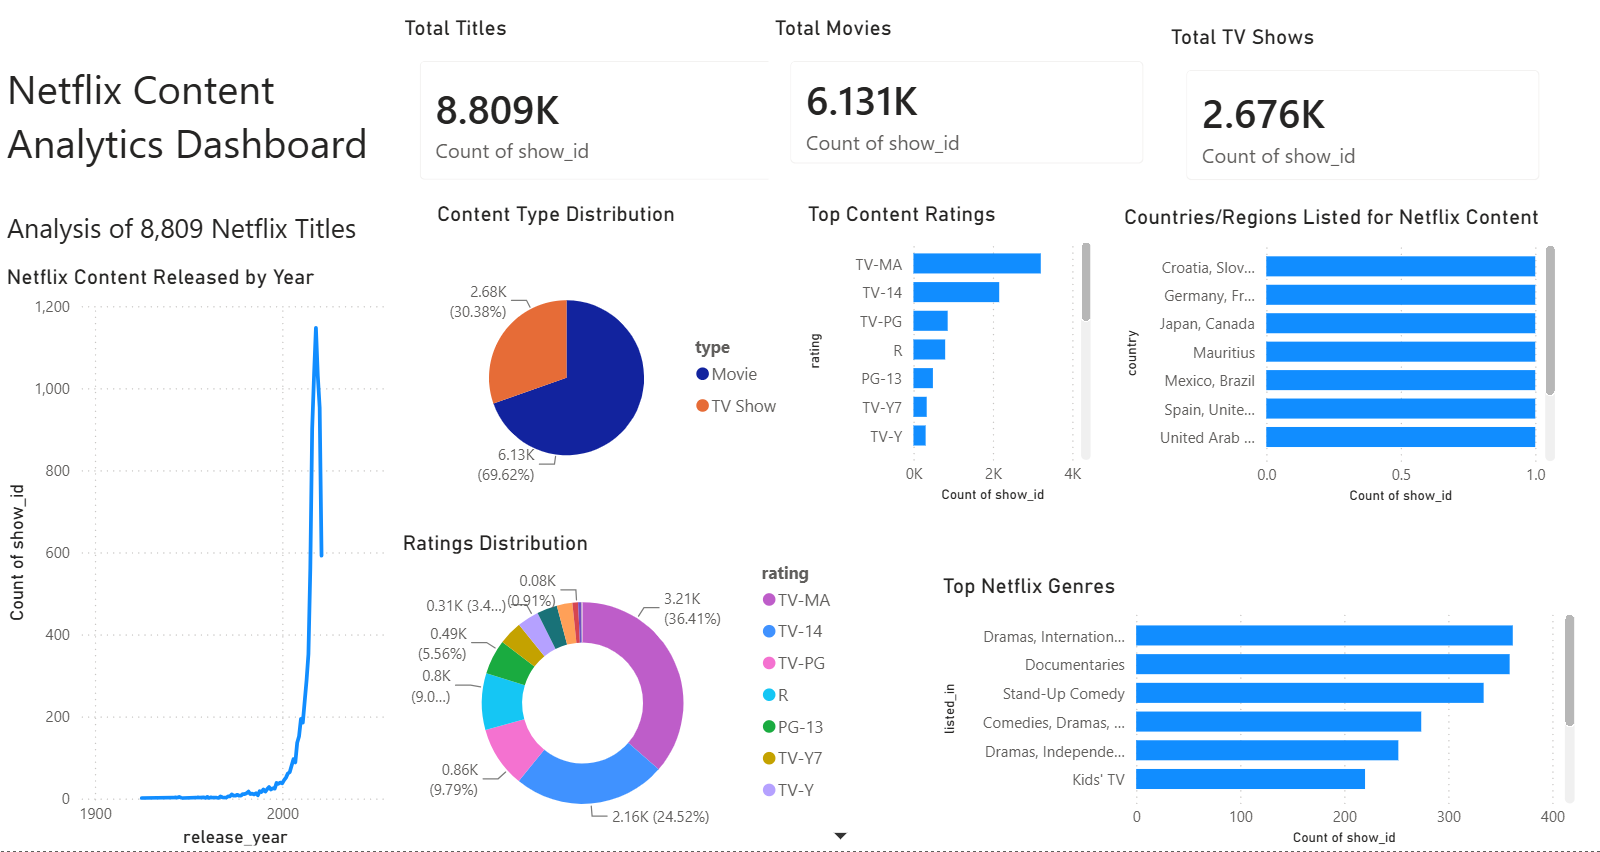

Layout of this report page (visuals, bound fields, positions):
{"tool":"powerbi","page":{"name":"Page 1","canvas":[1280,720],"ordinal":0},"visuals":[{"type":"pieChart","title":"Content Type Distribution","fields":{"Category":["netflix_titles.type"],"Y":["CountNonNull(netflix_titles.show_id)"]},"box":[344.7,201.1,289.7,262.1],"z":0},{"type":"lineChart","title":"Netflix Content Released by Year","fields":{"Category":["netflix_titles.release_year"],"Y":["CountNonNull(netflix_titles.show_id)"]},"box":[1.2,251.4,317.2,469.2],"z":1000},{"type":"clusteredBarChart","title":"Countries/Regions Listed for Netflix Content","fields":{"Category":["netflix_titles.country"],"Y":["CountNonNull(netflix_titles.show_id)"]},"box":[893.3,203.1,353.6,242.8],"z":2000},{"type":"donutChart","title":"Ratings Distribution","fields":{"Category":["netflix_titles.rating"],"Y":["CountNonNull(netflix_titles.show_id)"]},"box":[316.7,463,420.4,257],"z":3000},{"type":"clusteredBarChart","title":"Top Netflix Genres","fields":{"Category":["netflix_titles.listed_in"],"Y":["CountNonNull(netflix_titles.show_id)"]},"box":[748.4,498.5,514.1,221.5],"z":4000},{"type":"cardVisual","title":"Total Titles","fields":{"Data":["CountNonNull(netflix_titles.show_id)"]},"box":[318.1,52.5,316.7,149.1],"z":5000},{"type":"cardVisual","title":"Total Movies","fields":{"Data":["CountNonNull(netflix_titles.show_id)"]},"box":[613.5,52.5,316.7,136.3],"z":6000},{"type":"cardVisual","title":"Total TV Shows","fields":{"Data":["CountNonNull(netflix_titles.show_id)"]},"box":[930.2,59.6,316.7,142],"z":7000},{"type":"textbox","box":[1.4,83.8,316.7,117.9],"z":8000},{"type":"textbox","box":[1.2,202.3,317.2,49.1],"z":8001},{"type":"clusteredBarChart","title":"Top Content Ratings","fields":{"Category":["netflix_titles.rating"],"Y":["CountNonNull(netflix_titles.show_id)"]},"box":[640.5,201.7,235.7,244.3],"z":8002}]}

Visuals, with their boxes on the page's 1280x720 design canvas (x1, y1, x2, y2). These are canvas units, not pixel positions in the 1600x852 screenshot, which may show the page scaled, cropped or inside an application window:
"Content Type Distribution" pieChart: bbox(345, 201, 634, 463)
"Netflix Content Released by Year" lineChart: bbox(1, 251, 318, 721)
"Countries/Regions Listed for Netflix Content" clusteredBarChart: bbox(893, 203, 1247, 446)
"Ratings Distribution" donutChart: bbox(317, 463, 737, 720)
"Top Netflix Genres" clusteredBarChart: bbox(748, 498, 1262, 720)
"Total Titles" cardVisual: bbox(318, 52, 635, 202)
"Total Movies" cardVisual: bbox(614, 52, 930, 189)
"Total TV Shows" cardVisual: bbox(930, 60, 1247, 202)
textbox: bbox(1, 84, 318, 202)
textbox: bbox(1, 202, 318, 251)
"Top Content Ratings" clusteredBarChart: bbox(640, 202, 876, 446)
